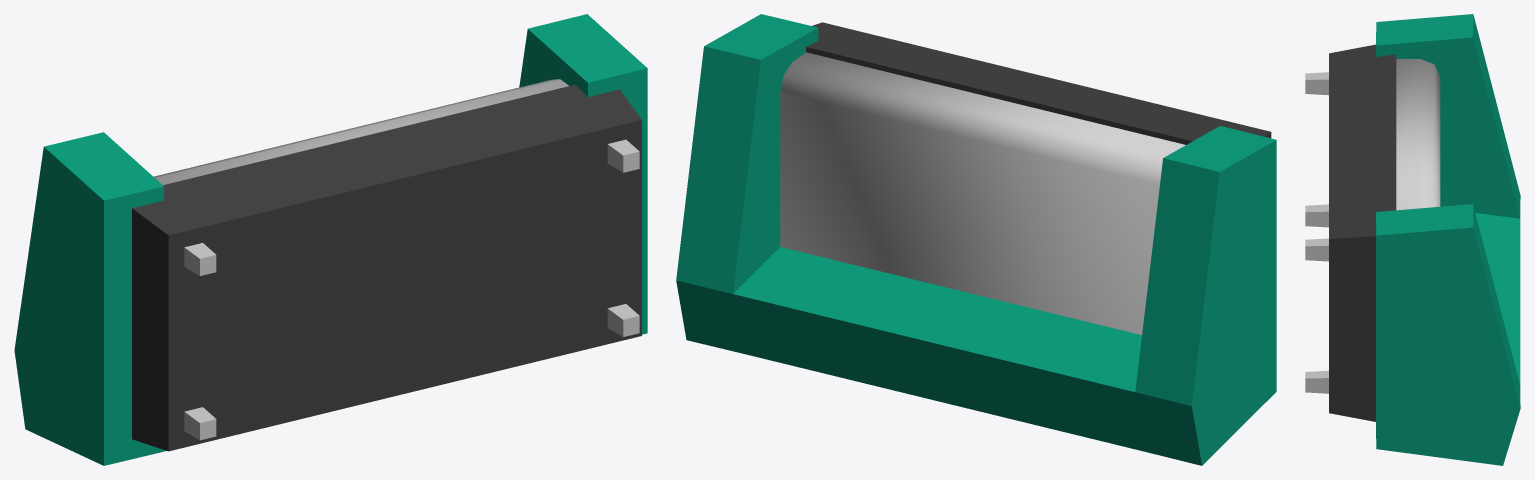
Rendered from Sofa_2.glb.
3 renders of one model, left to right at view 1: azimuth 30°, elevation 25°; view 2: azimuth 150°, elevation 25°; view 3: azimuth 270°, elevation 25°, orthographic. The views are drawn at different scales.
Visible parts, largest first — view 1: Sofa 2; view 2: Sofa 2; view 3: Sofa 2.
Boxes of the visible parts, x1,y1,x2,y2 form: Sofa 2: [14, 14, 647, 465]; Sofa 2: [676, 14, 1276, 465]; Sofa 2: [1305, 14, 1520, 465].
Bounding box in the file's own units: 1.8 × 0.9356 × 0.7648.
1 material, 1 textured.
